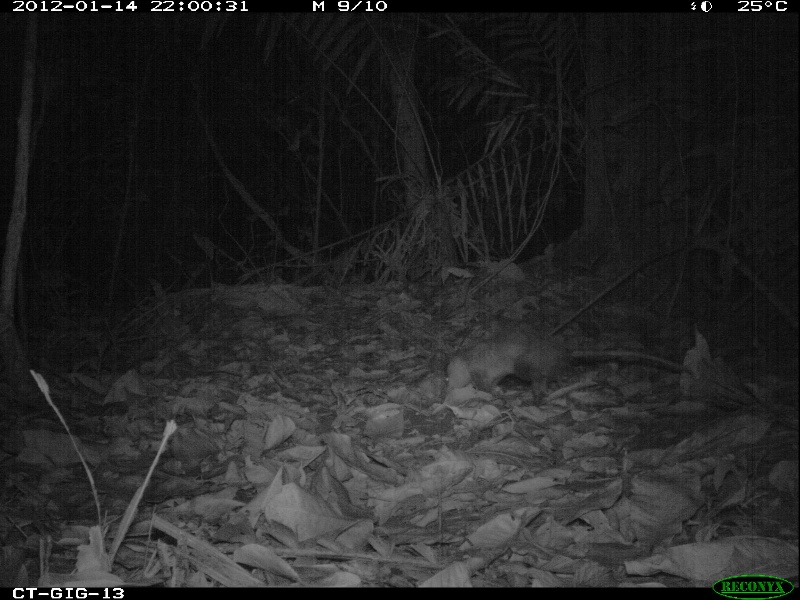opossum: (435, 323, 692, 416)
